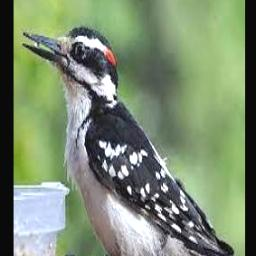Woodpecker: (22, 26, 245, 256)
